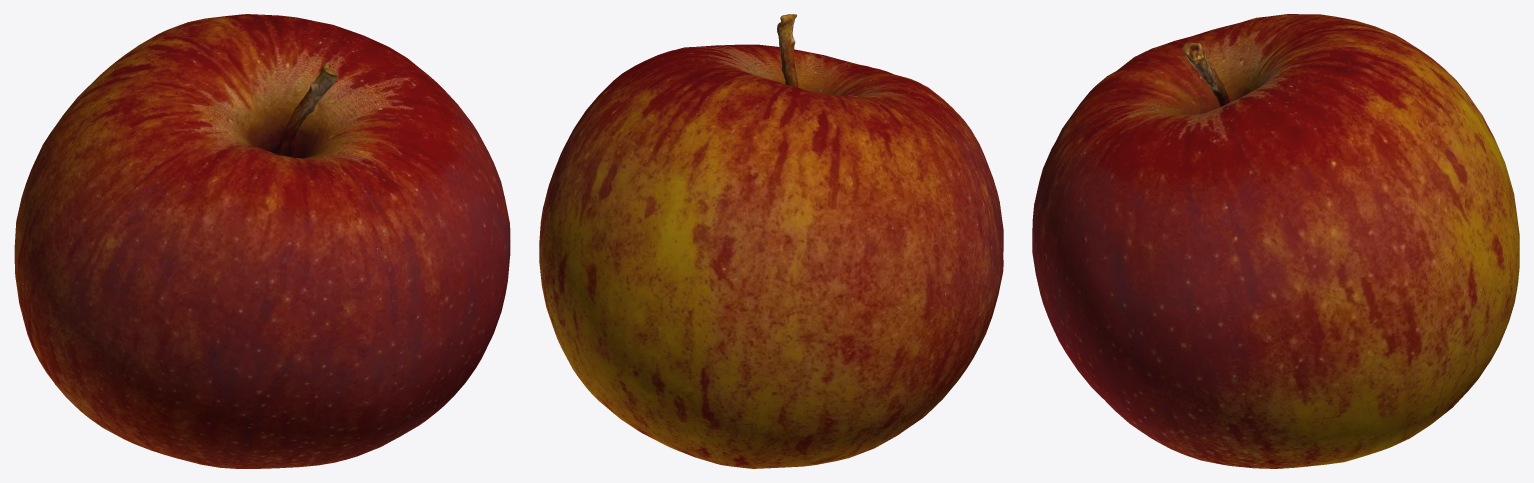
The model's file is apple.glb.
3 renders of one model, left to right at view 1: azimuth 30°, elevation 25°; view 2: azimuth 150°, elevation 25°; view 3: azimuth 270°, elevation 25°, orthographic. The views are drawn at different scales.
Parts seen in each view (by area): view 1: food_apple_01; view 2: food_apple_01; view 3: food_apple_01.
Boxes of the visible parts, x1,y1,x2,y2 form: food_apple_01: (14, 14, 510, 468); food_apple_01: (539, 14, 1003, 468); food_apple_01: (1032, 14, 1519, 468).
Bounding box in the file's own units: 0.0976 × 0.0854 × 0.0959.
Materials: 1 (1 with a texture image).
